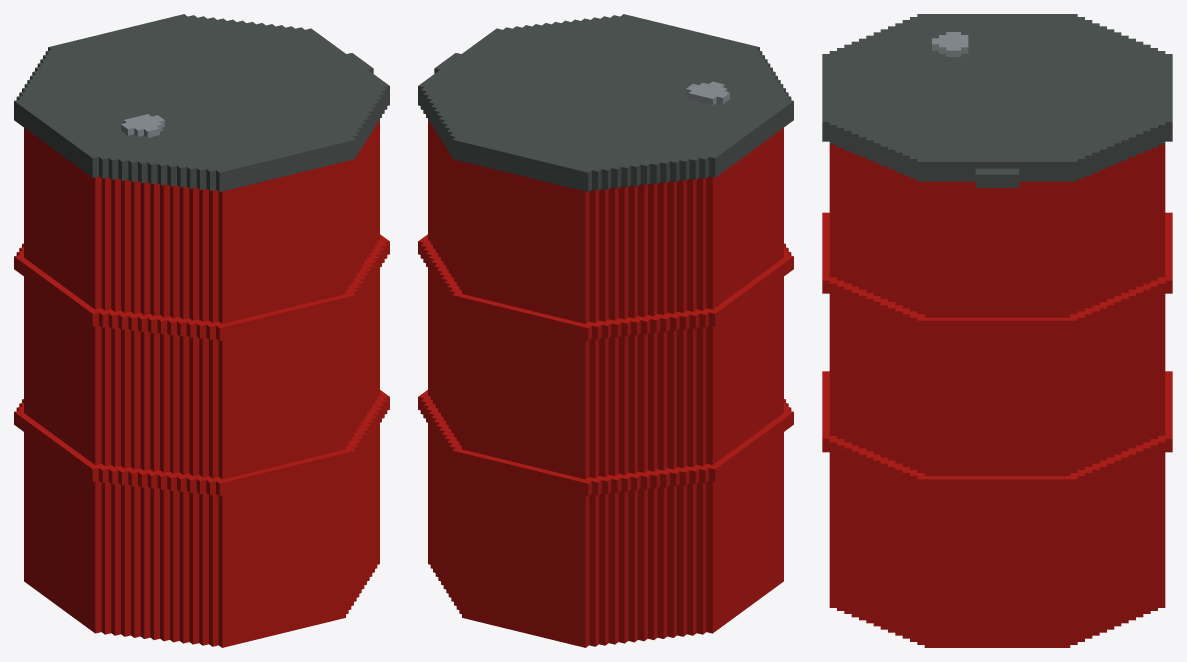
The model's file is steel_drum_100.glb.
3 views of the same model, side by side, from view 1: azimuth 30°, elevation 25°; view 2: azimuth 150°, elevation 25°; view 3: azimuth 270°, elevation 25° (orthographic). The views are drawn at different scales.
Parts seen in each view (by area): view 1: steel_drum_100:compound; view 2: steel_drum_100:compound; view 3: steel_drum_100:compound.
Part boxes in pixels (x1,y1,x2,y2): steel_drum_100:compound: (14, 14, 389, 647); steel_drum_100:compound: (418, 14, 793, 647); steel_drum_100:compound: (822, 14, 1172, 647).
Size of the model in its own units: 0.5 by 0.75 by 0.48.
